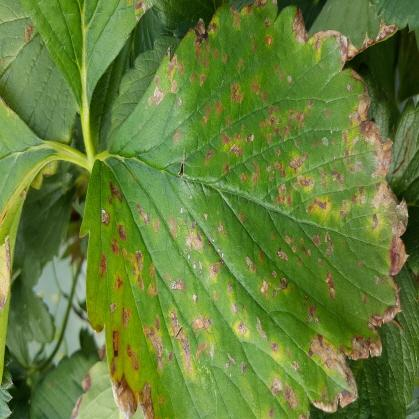Angular Leafspot: (78, 0, 413, 418)
